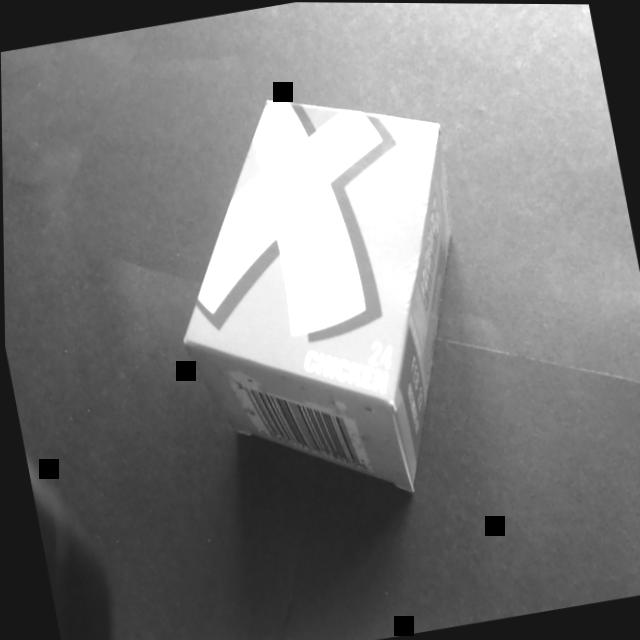Chickenstock: (131, 63, 516, 550)
